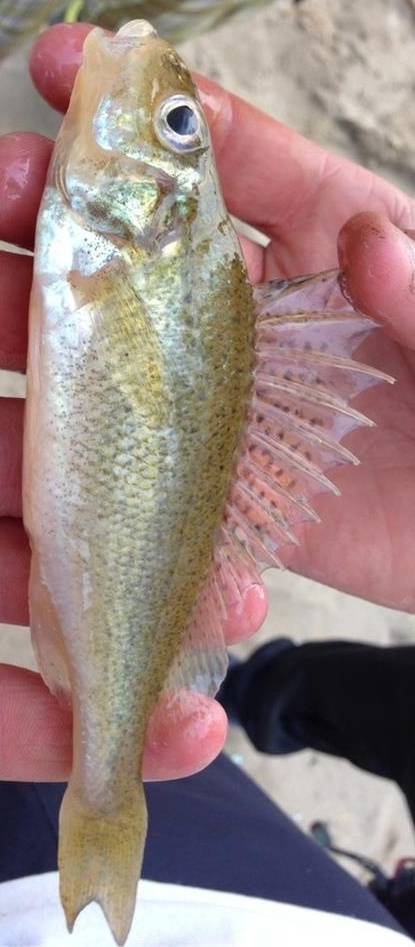Gymnocephalus cernuus: (20, 20, 395, 947)
